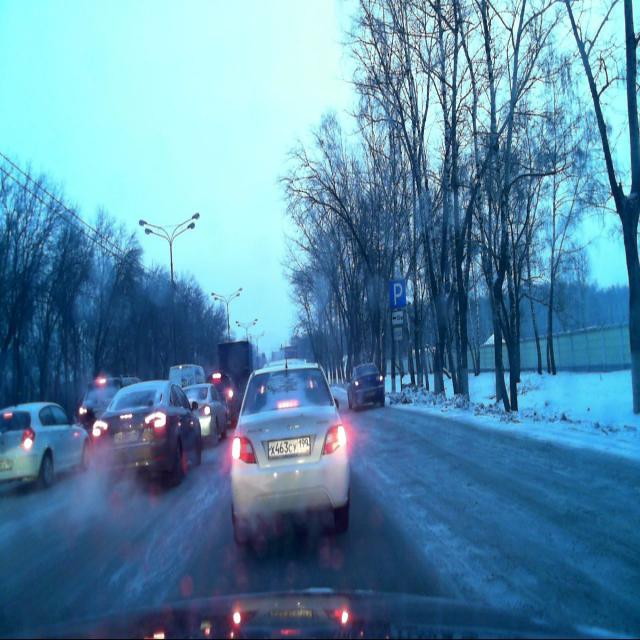road sign: (389, 278, 406, 308), (391, 310, 404, 324)
